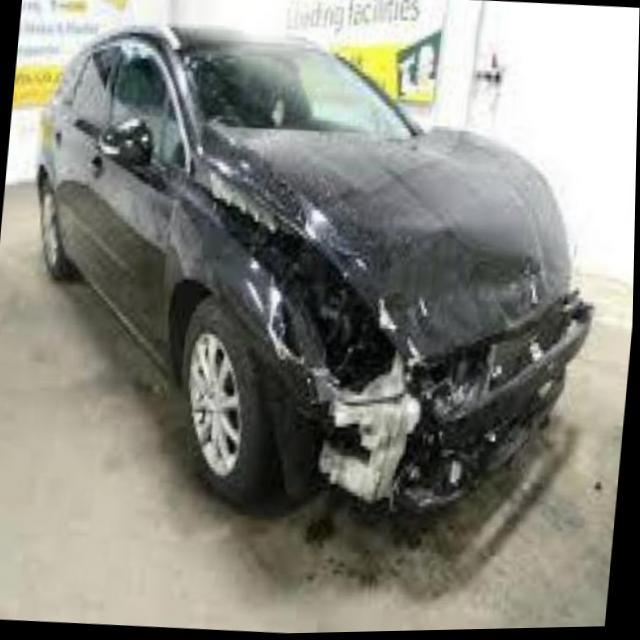no part: (192, 158, 595, 512)
